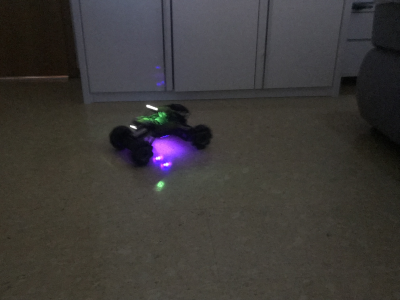remote control car: (106, 101, 215, 167)
